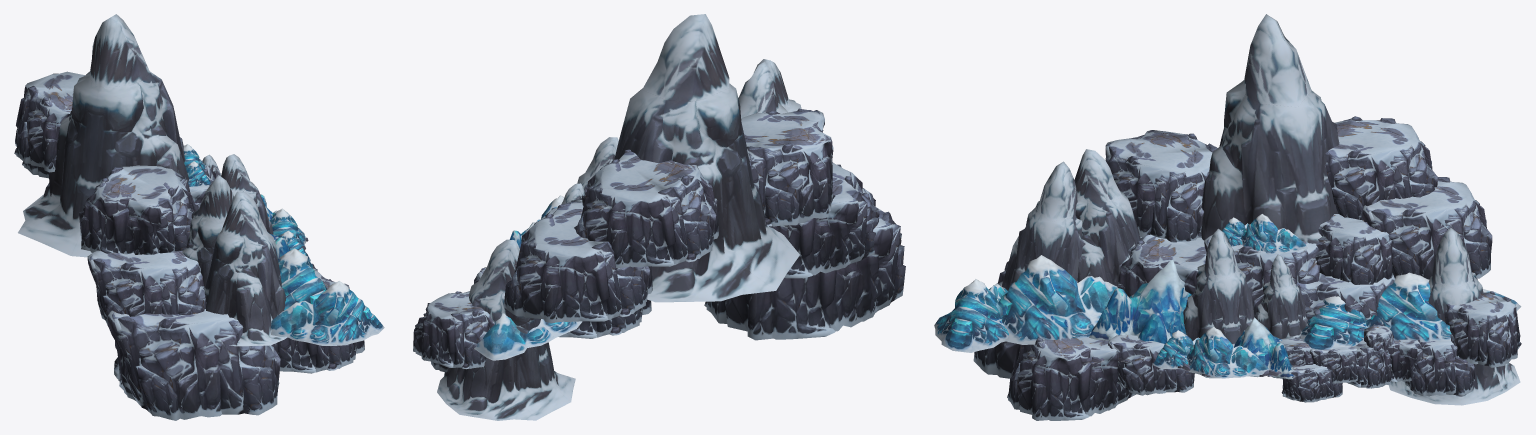
Rendered from yanshi_1.fbx.
3 renders of one model, left to right at view 1: azimuth 30°, elevation 25°; view 2: azimuth 150°, elevation 25°; view 3: azimuth 270°, elevation 25°, orthographic. The views are drawn at different scales.
Visible parts, largest first — view 1: yanshi_1; view 2: yanshi_1; view 3: yanshi_1.
Boxes of the visible parts, x1,y1,x2,y2 form: yanshi_1: [14, 14, 384, 420]; yanshi_1: [413, 14, 905, 420]; yanshi_1: [934, 14, 1521, 420].
Size of the model in its own units: 5056 by 5808 by 9151.
